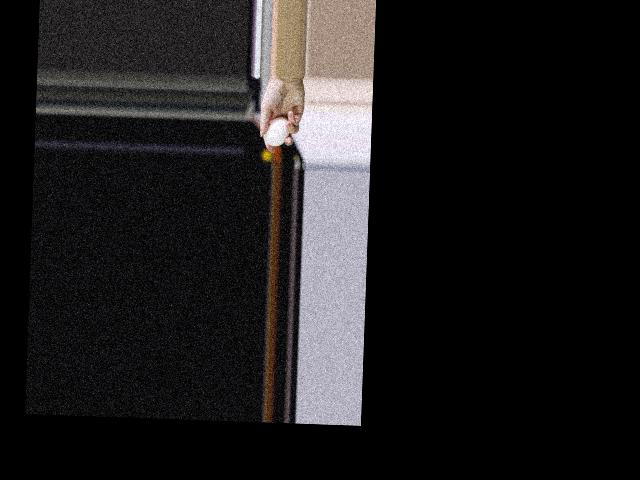egg: (264, 117, 290, 147)
